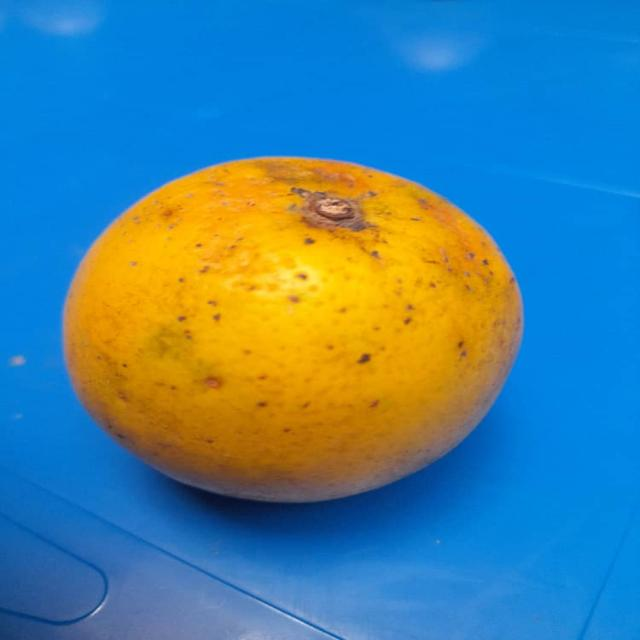Ripe orange: (38, 151, 540, 518)
